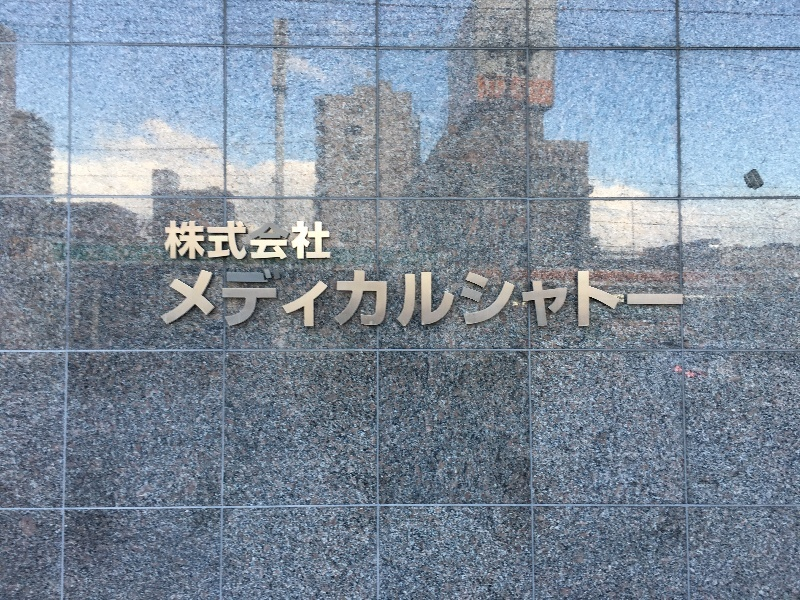text: (177, 270, 192, 329), (193, 270, 208, 329), (209, 270, 224, 329), (225, 270, 240, 329), (241, 270, 256, 329), (257, 270, 272, 329), (273, 270, 288, 329), (289, 270, 304, 329), (305, 270, 320, 329), (321, 270, 336, 329), (337, 270, 352, 329), (353, 270, 368, 329), (369, 270, 384, 329), (385, 270, 400, 329), (401, 270, 416, 329), (417, 270, 432, 329), (433, 270, 448, 329), (449, 270, 464, 329), (465, 270, 480, 329), (481, 270, 496, 329), (497, 270, 512, 329), (513, 270, 528, 329), (529, 270, 544, 329), (545, 270, 560, 329), (561, 270, 576, 329), (577, 270, 592, 329), (593, 270, 608, 329), (609, 270, 624, 329), (625, 270, 640, 329), (641, 270, 656, 329), (657, 270, 672, 329), (673, 270, 686, 329), (177, 220, 192, 262), (193, 220, 208, 262), (209, 220, 224, 262), (225, 220, 240, 262), (241, 220, 256, 262), (257, 220, 272, 262), (273, 220, 288, 262), (289, 220, 304, 262), (305, 220, 320, 262), (163, 220, 176, 262), (167, 270, 176, 329), (321, 220, 331, 262)
